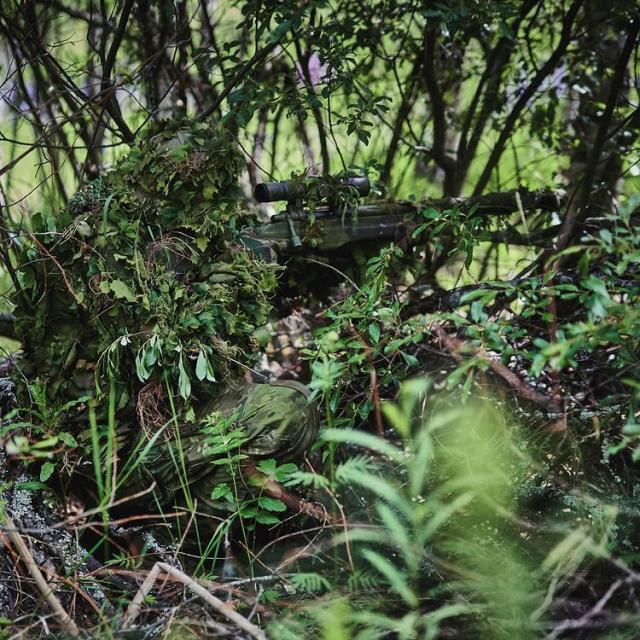Camouflage: (11, 117, 571, 565)
